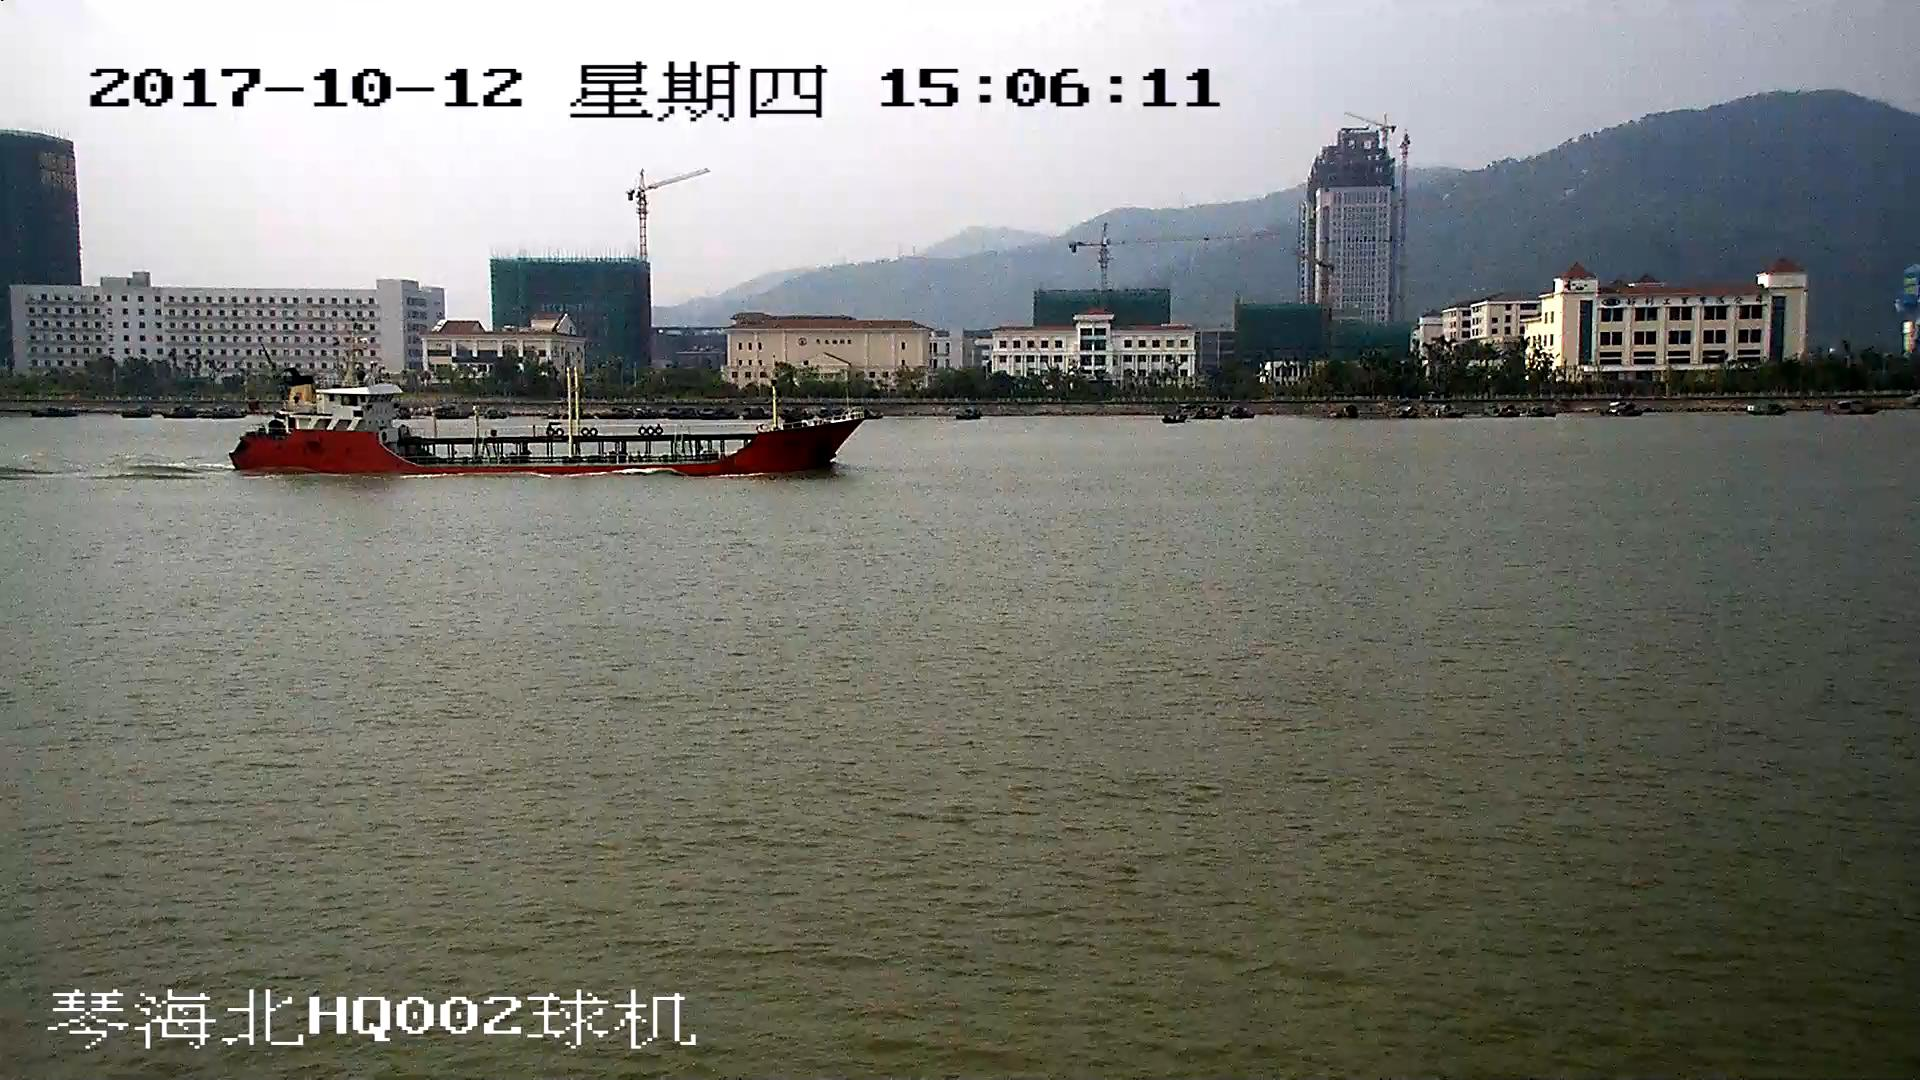general cargo ship: (229, 342, 861, 475)
